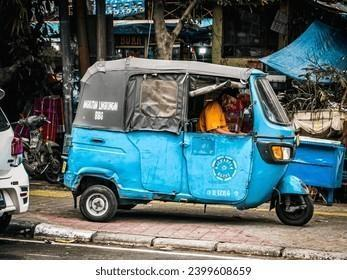keke: (61, 52, 317, 232)
